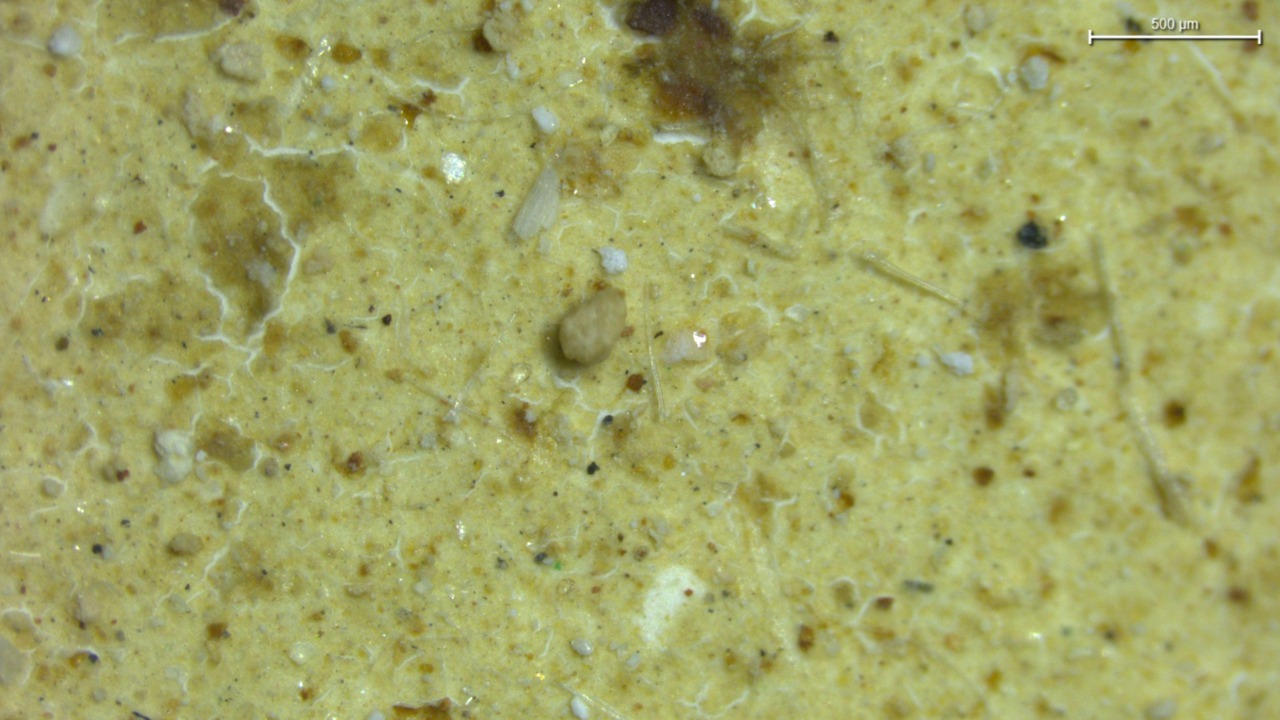microplastic_fragment: (558, 287, 626, 365), (154, 429, 193, 482), (48, 24, 81, 57), (598, 246, 627, 274)
